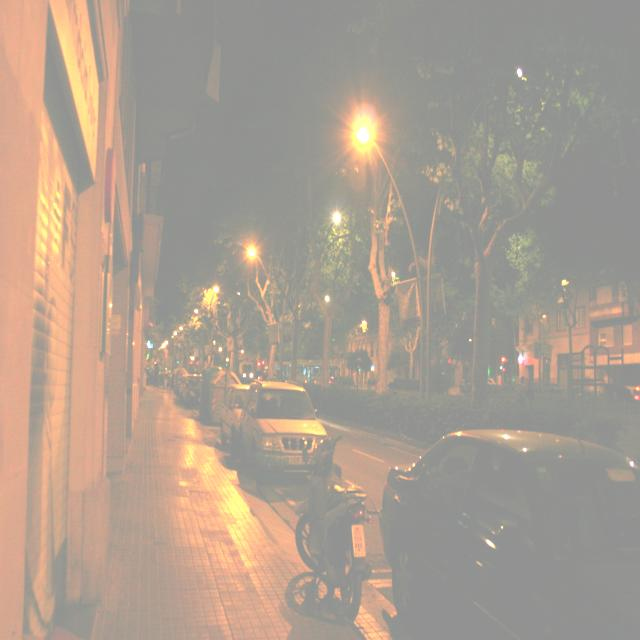Motorbike: (294, 433, 373, 619)
